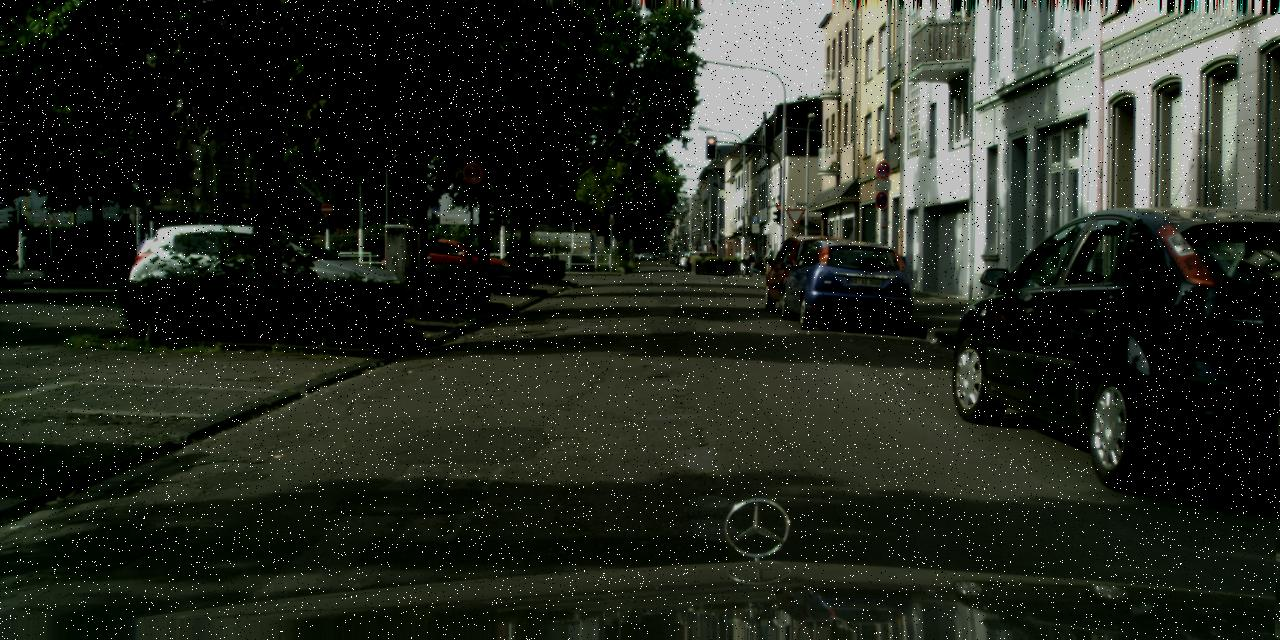ped: (14, 236, 28, 268), (762, 243, 774, 274), (741, 246, 752, 276), (749, 247, 760, 275)
